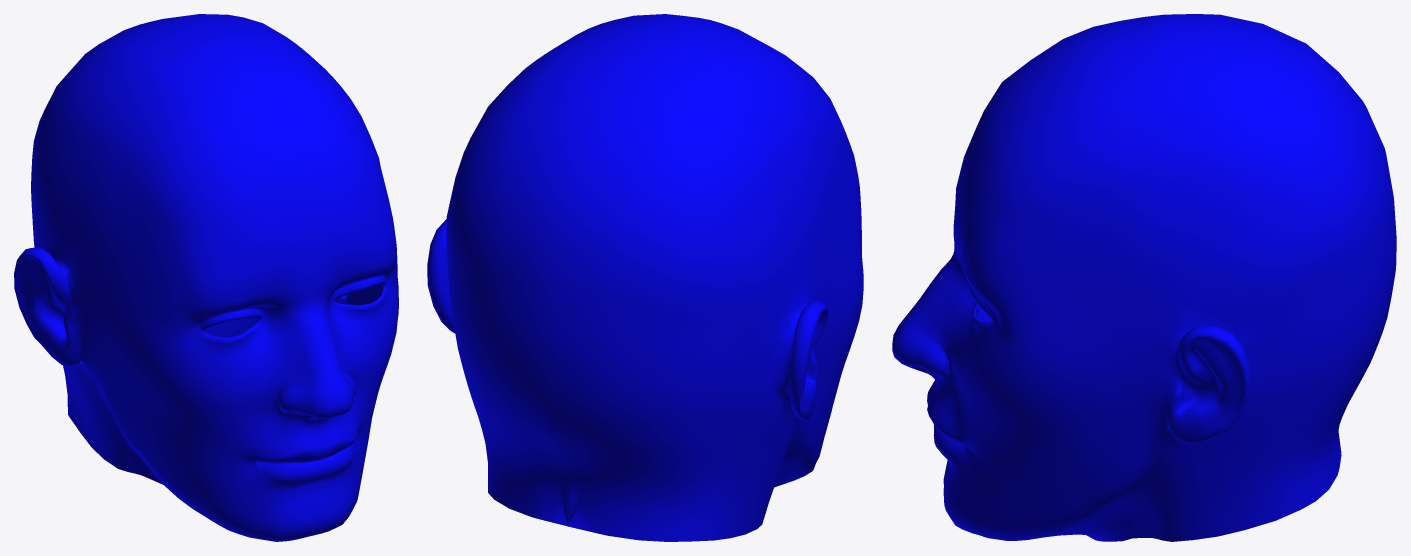
File: headTri.obj
3 renders of one model, left to right at view 1: azimuth 30°, elevation 25°; view 2: azimuth 150°, elevation 25°; view 3: azimuth 270°, elevation 25°, orthographic. The views are drawn at different scales.
Parts seen in each view (by area): view 1: object0; view 2: object0; view 3: object0.
Boxes of the visible parts, x1,y1,x2,y2 form: object0: (14,14,398,541); object0: (427,14,863,541); object0: (892,14,1396,541).
Size of the model in its own units: 30.6 by 38.16 by 35.42.
